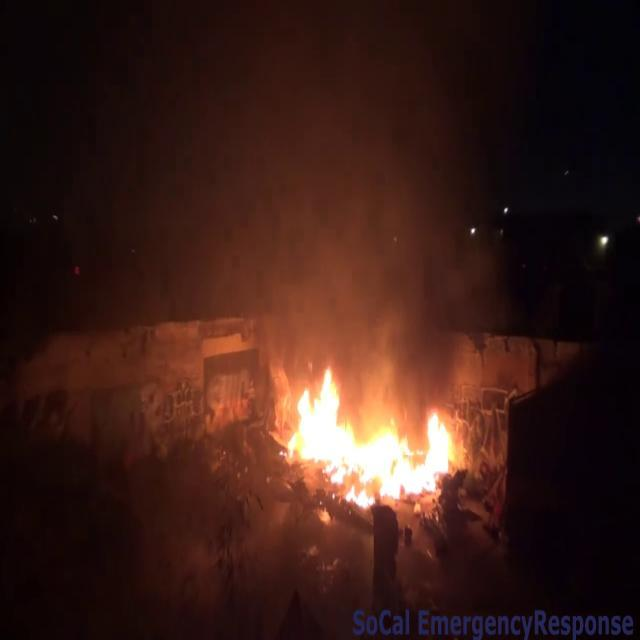Fire: (272, 362, 465, 504)
Smoke: (177, 0, 455, 365)
